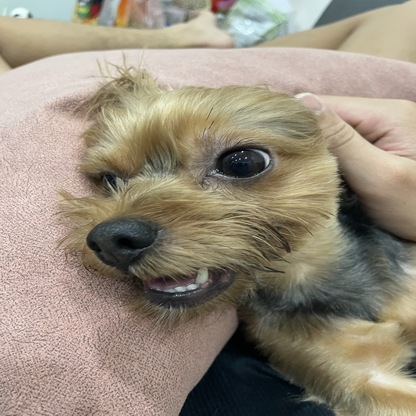yorkshire: (58, 61, 416, 413)
